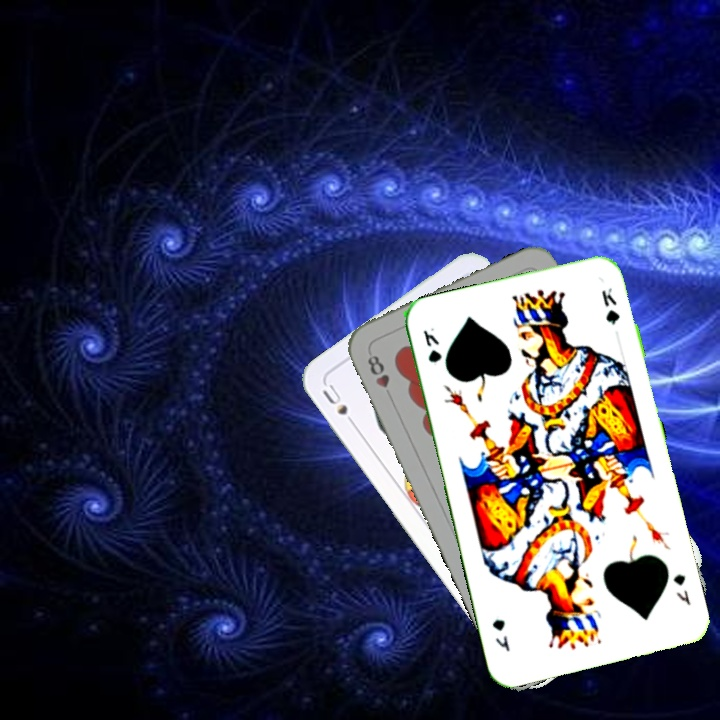GK: (419, 323, 445, 366), (669, 570, 694, 608)
H8: (363, 351, 396, 403)
SU: (318, 380, 361, 432)
